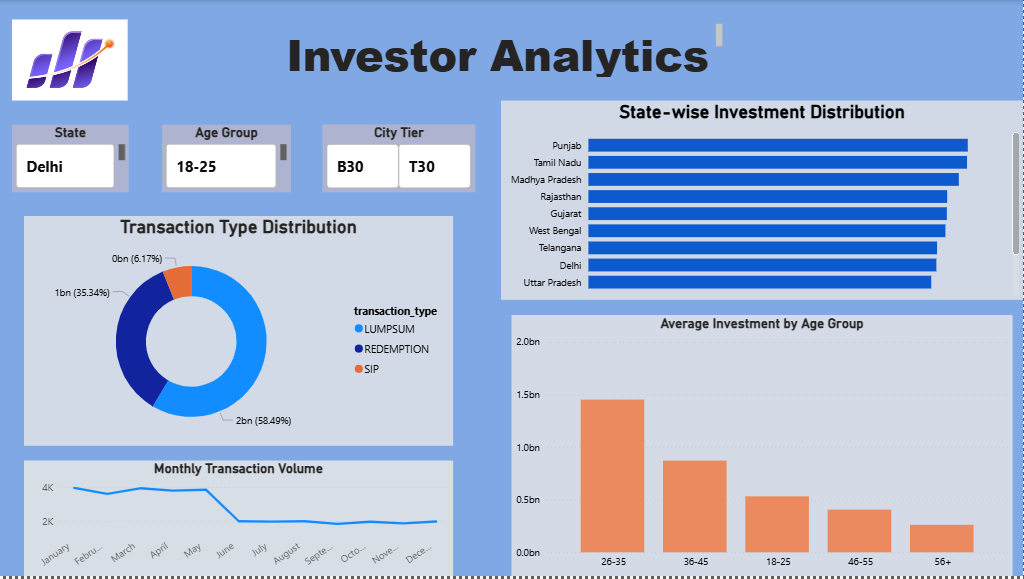

Layout of this report page (visuals, bound fields, positions):
{"tool":"powerbi","page":{"name":"Investor Analytics","canvas":[1280,720],"ordinal":2},"visuals":[{"type":"donutChart","title":"Transaction Type Distribution","fields":{"Category":["investor_transactions_clean.transaction_type"],"Y":["Sum(investor_transactions_clean.amount_inr)"]},"box":[30,270.1,536.5,287],"z":0},{"type":"barChart","title":"State-wise Investment Distribution","fields":{"Y":["Sum(investor_transactions_clean.amount_inr)"],"Category":["investor_transactions_clean.state"]},"box":[626.6,125.7,652.8,249.5],"z":1000},{"type":"textbox","box":[343.9,24.6,565,75.6],"z":2000},{"type":"image","box":[15,24.4,144.4,101.3],"z":3000},{"type":"lineClusteredColumnComboChart","title":"Average Investment by Age Group","fields":{"Category":["investor_transactions_clean.age_group"],"Y":["Sum(investor_transactions_clean.amount_inr)"]},"box":[639.7,393.9,626.6,326.4],"z":4000},{"type":"lineChart","title":"Monthly Transaction Volume","fields":{"Category":["investor_transactions_clean.transaction_date.Variation.Date Hierarchy.Month"],"Y":["CountNonNull(investor_transactions_clean.investor_id)"]},"box":[30,575.9,536.5,144.4],"z":5000},{"type":"advancedSlicerVisual","title":"State","fields":{"Values":["investor_transactions_clean.state"]},"box":[15,155.7,146.3,84.4],"z":6000},{"type":"advancedSlicerVisual","title":"Age Group","fields":{"Values":["investor_transactions_clean.age_group"]},"box":[202.6,155.7,161.3,84.4],"z":7000},{"type":"advancedSlicerVisual","title":"City Tier","fields":{"Values":["investor_transactions_clean.city_tier"]},"box":[403.3,155.7,191.3,84.4],"z":8000}]}

Visuals, with their boxes in screenshot pixels (x1, y1, x2, y2), scaled from the page's 1280x720 canvas onto the 1024x579 screenshot:
"Transaction Type Distribution" donutChart: 24/217/453/448
"State-wise Investment Distribution" barChart: 501/101/1023/302
textbox: 275/20/727/81
image: 12/20/128/101
"Average Investment by Age Group" lineClusteredColumnComboChart: 512/317/1013/578
"Monthly Transaction Volume" lineChart: 24/463/453/578
"State" advancedSlicerVisual: 12/125/129/193
"Age Group" advancedSlicerVisual: 162/125/291/193
"City Tier" advancedSlicerVisual: 323/125/476/193
